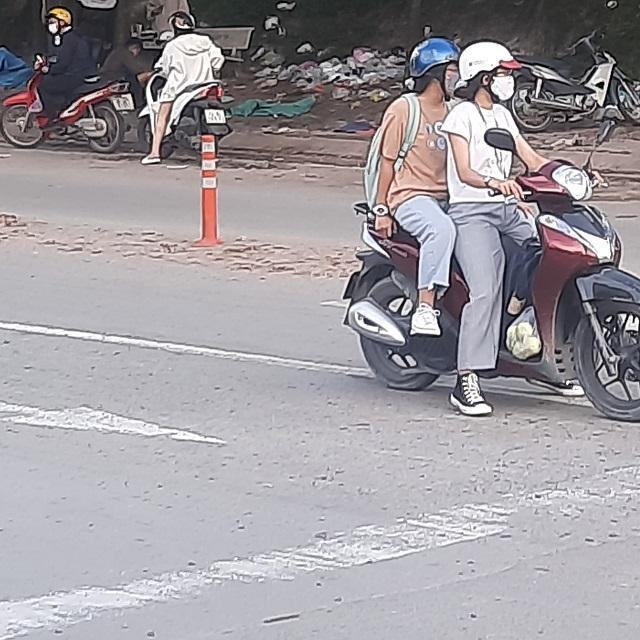Helmet: (459, 40, 525, 104), (406, 35, 460, 97)
